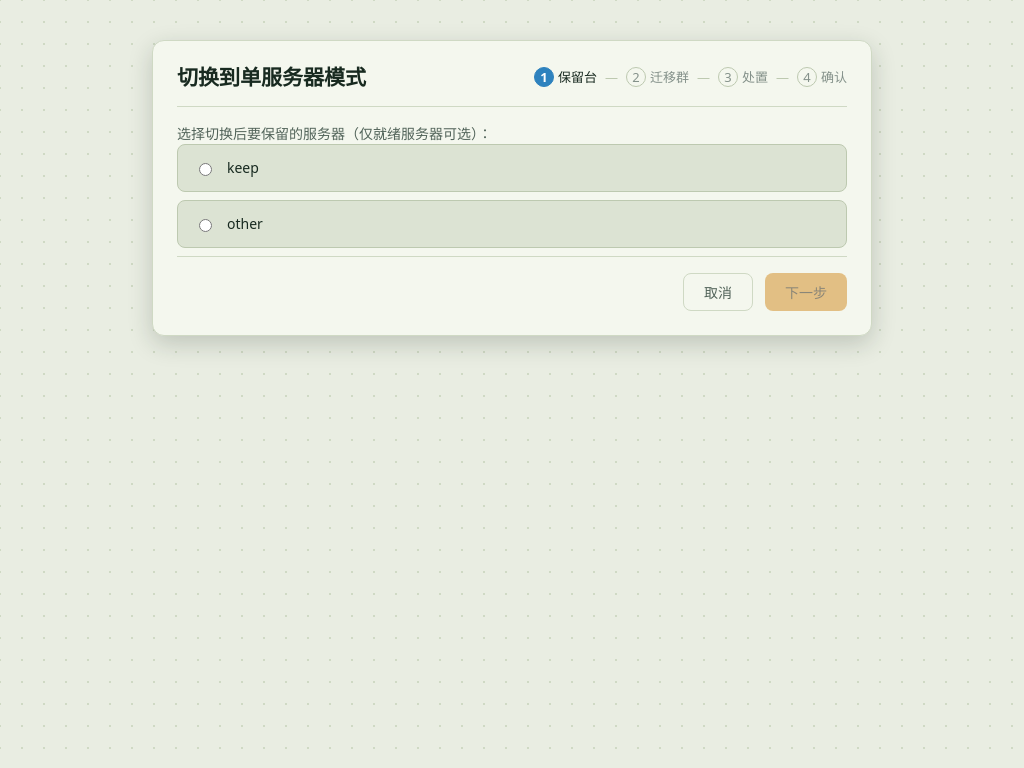
Test: TransferWizard › 改选保留台 → 步2 勾选默认按新台重算（已有/新权翻转）
The width and height of the screenshot is (1024, 768).
Click the radio button labelled "keep" at (206, 170), box [199, 163, 212, 176]
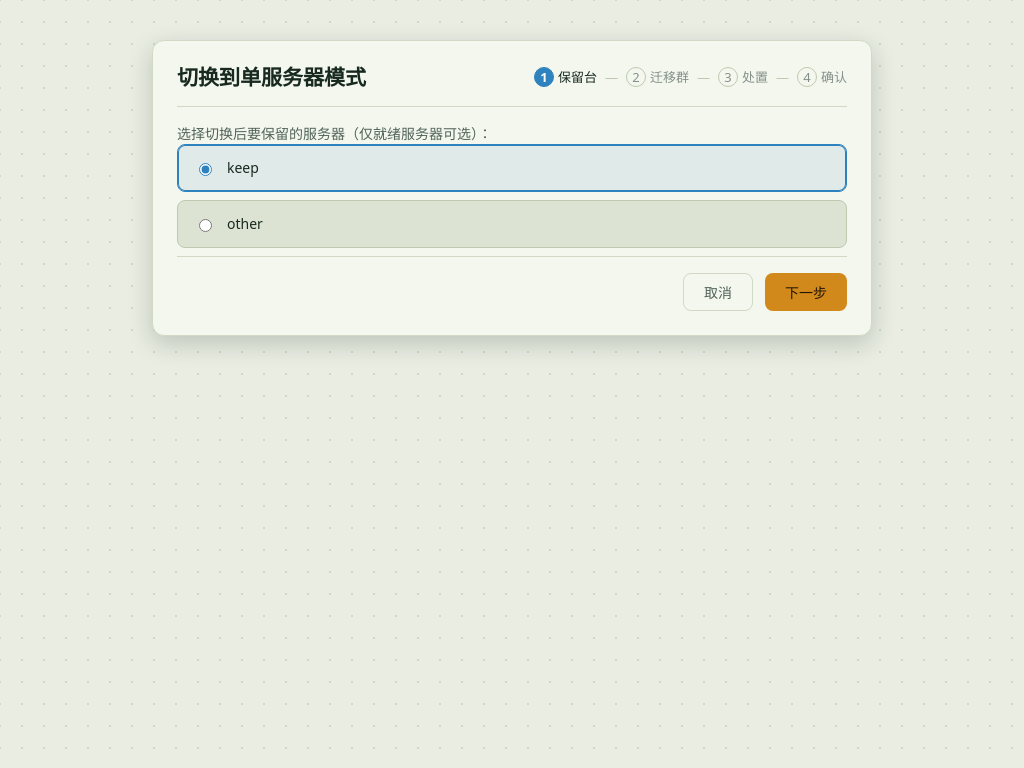
Click the button "下一步" at (806, 292), box [765, 273, 847, 311]
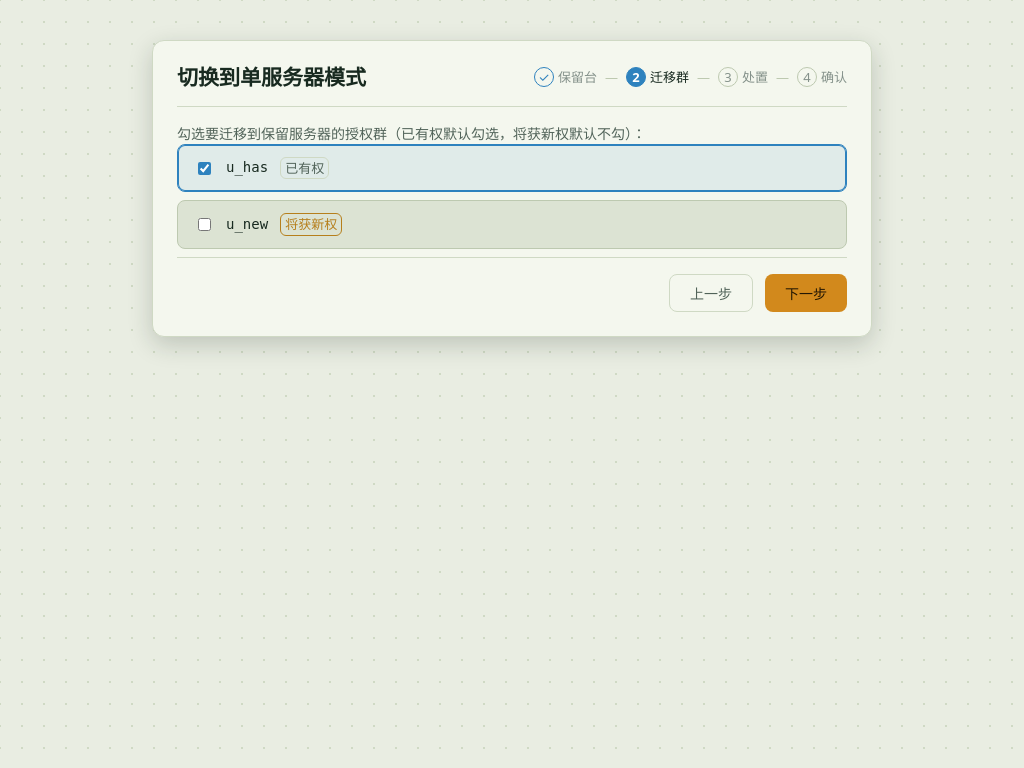
Expected: the checkbox labelled "u_has 已有权" is checked, [198, 162, 211, 175]
Expected: the checkbox labelled "u_new 将获新权" is not checked, [198, 218, 211, 231]
回步1 → 改选 other：翻转
Click the button "上一步" at (711, 292), box [669, 274, 753, 312]
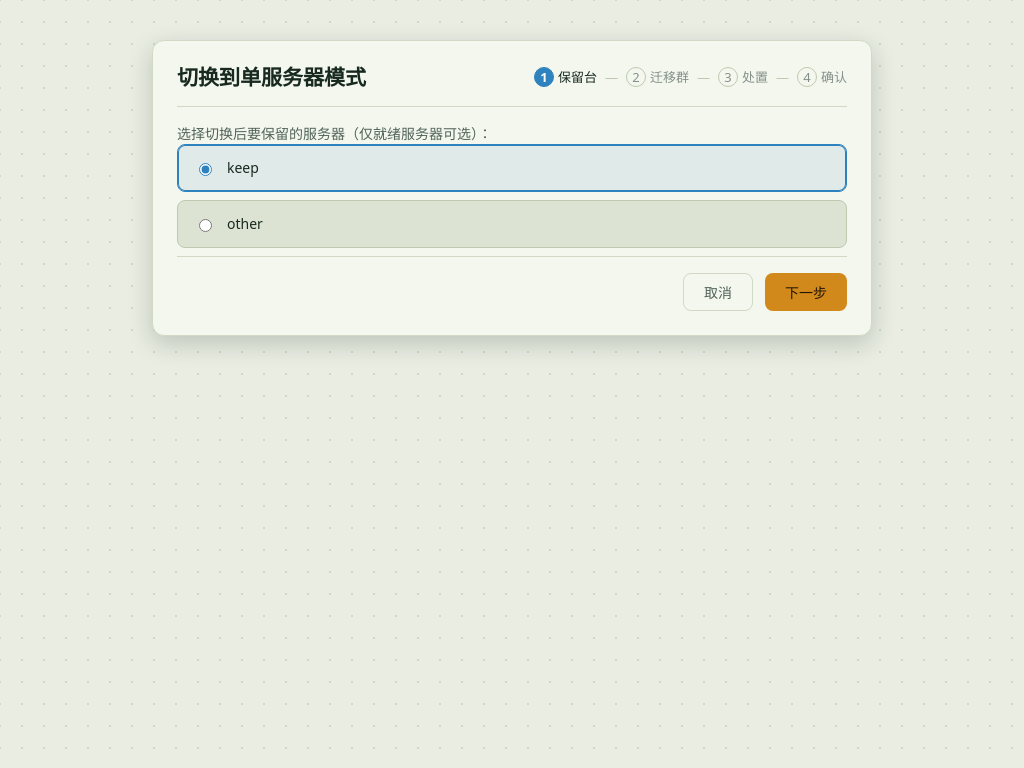
Click the radio button labelled "other" at (206, 225), box [199, 219, 212, 232]
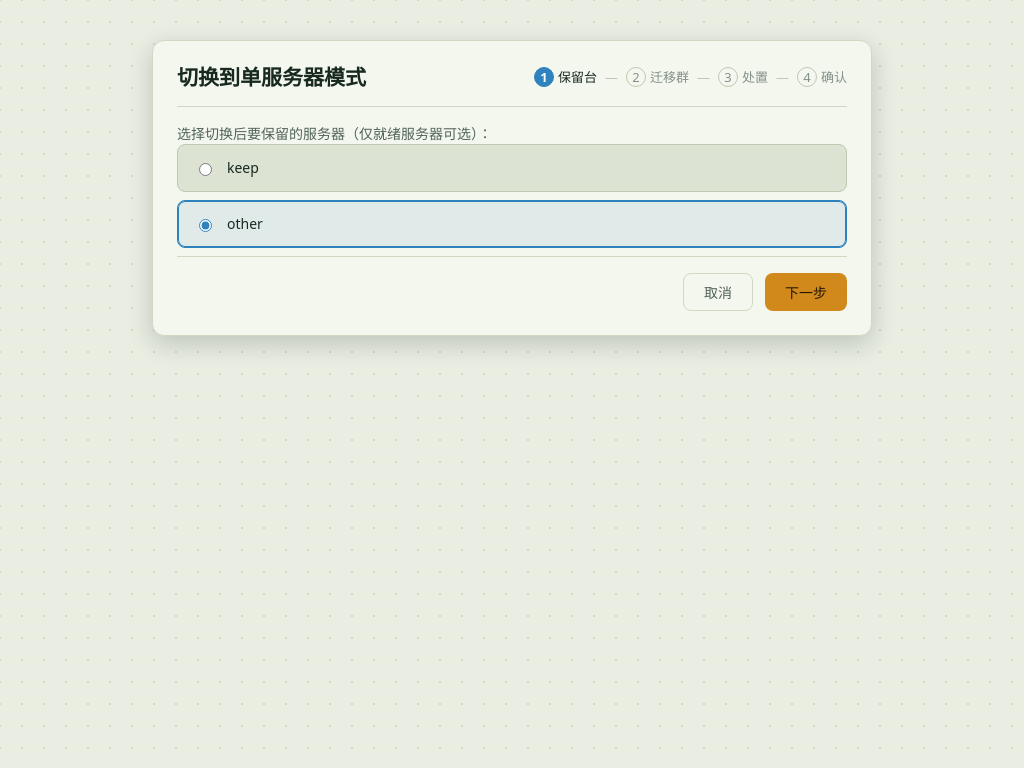
Click the button "下一步" at (806, 292), box [765, 273, 847, 311]
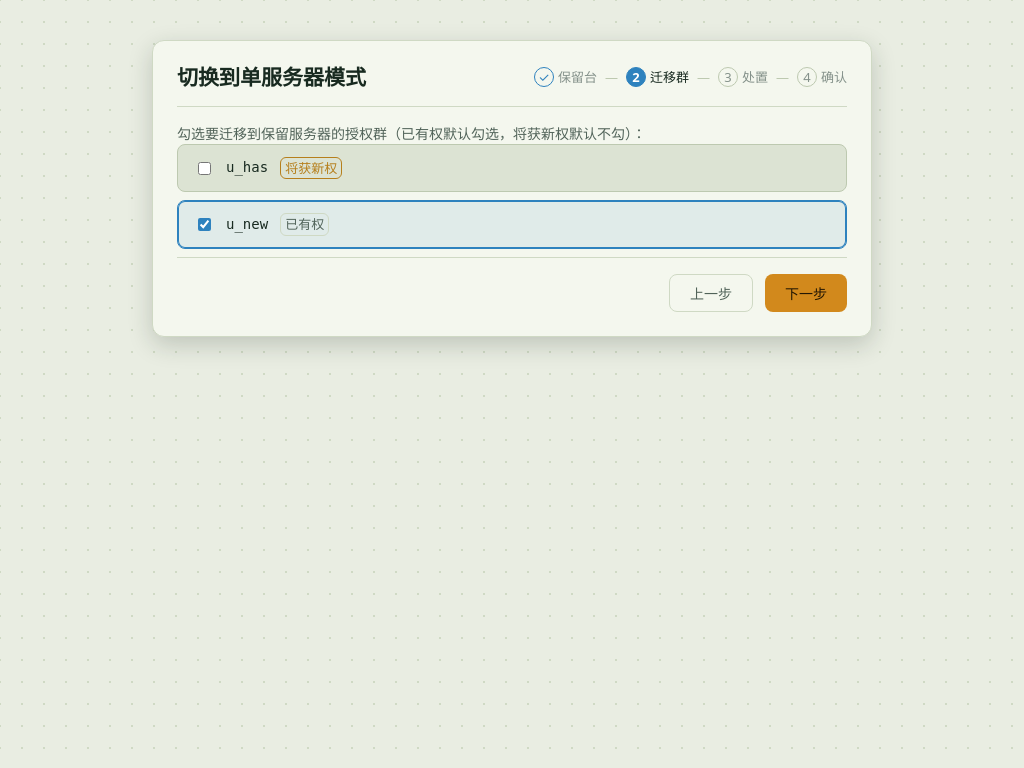
Expected: the checkbox labelled "u_has 将获新权" is not checked, [198, 162, 211, 175]
Expected: the checkbox labelled "u_new 已有权" is checked, [198, 218, 211, 231]
